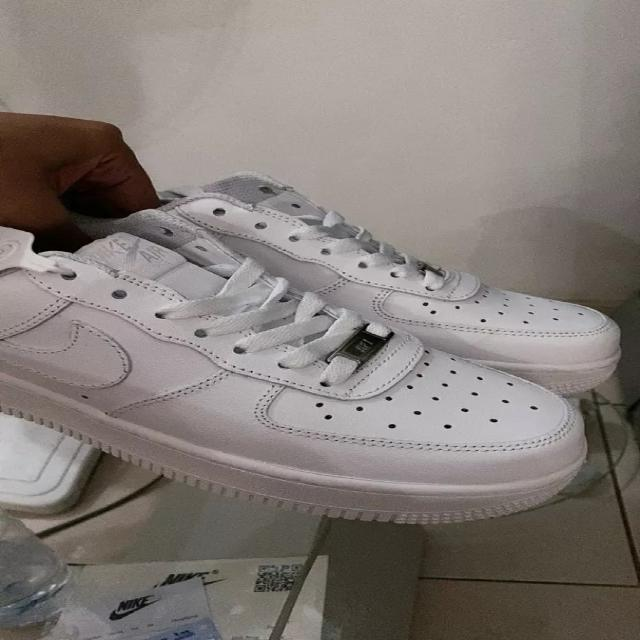nike original air force: (0, 210, 637, 526), (113, 176, 630, 396)
